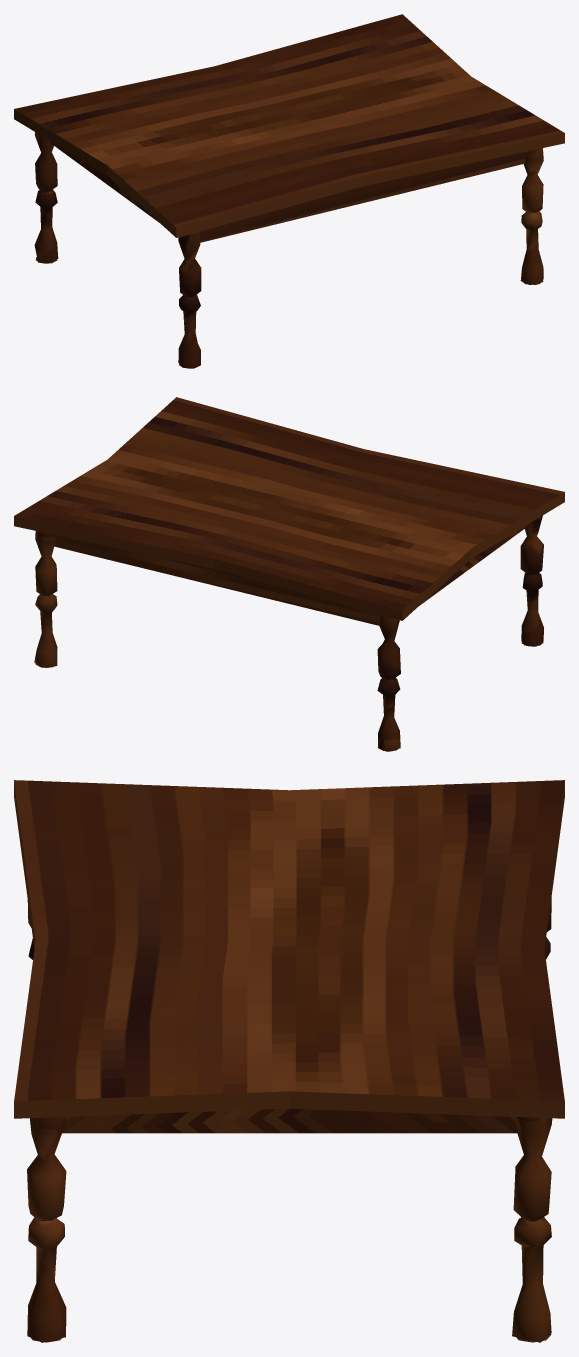
Rendered from TableLarge.fbx.
3 views of the same model, one above another, from view 1: azimuth 30°, elevation 25°; view 2: azimuth 150°, elevation 25°; view 3: azimuth 270°, elevation 25° (orthographic). The views are drawn at different scales.
Visible parts, largest first — view 1: BigTable; view 2: BigTable; view 3: BigTable.
Boxes of the visible parts, box(x1,y1,x2,y2) form: BigTable: box(14, 14, 564, 368); BigTable: box(14, 397, 564, 751); BigTable: box(14, 780, 564, 1342).
Bounding box in the file's own units: 2 × 0.7301 × 1.45.
